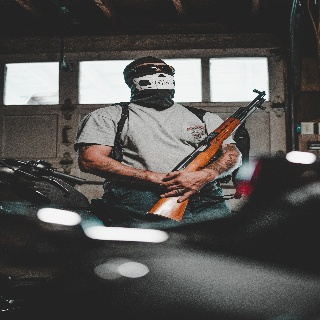rifle: (145, 85, 268, 224)
